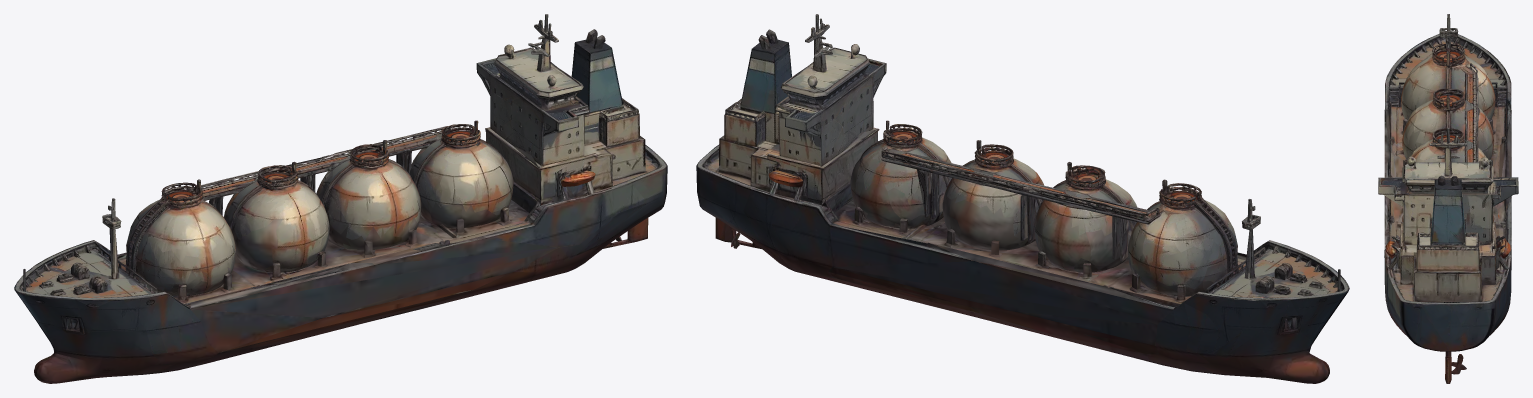
The model's file is lng_carrier.glb.
The picture shows the model from 3 angles, left to right: view 1: azimuth 30°, elevation 25°; view 2: azimuth 150°, elevation 25°; view 3: azimuth 270°, elevation 25°; orthographic projection. The views are drawn at different scales.
Size of the model in its own units: 1.9 by 0.7168 by 0.4256.
Materials: 1 (1 with a texture image).
